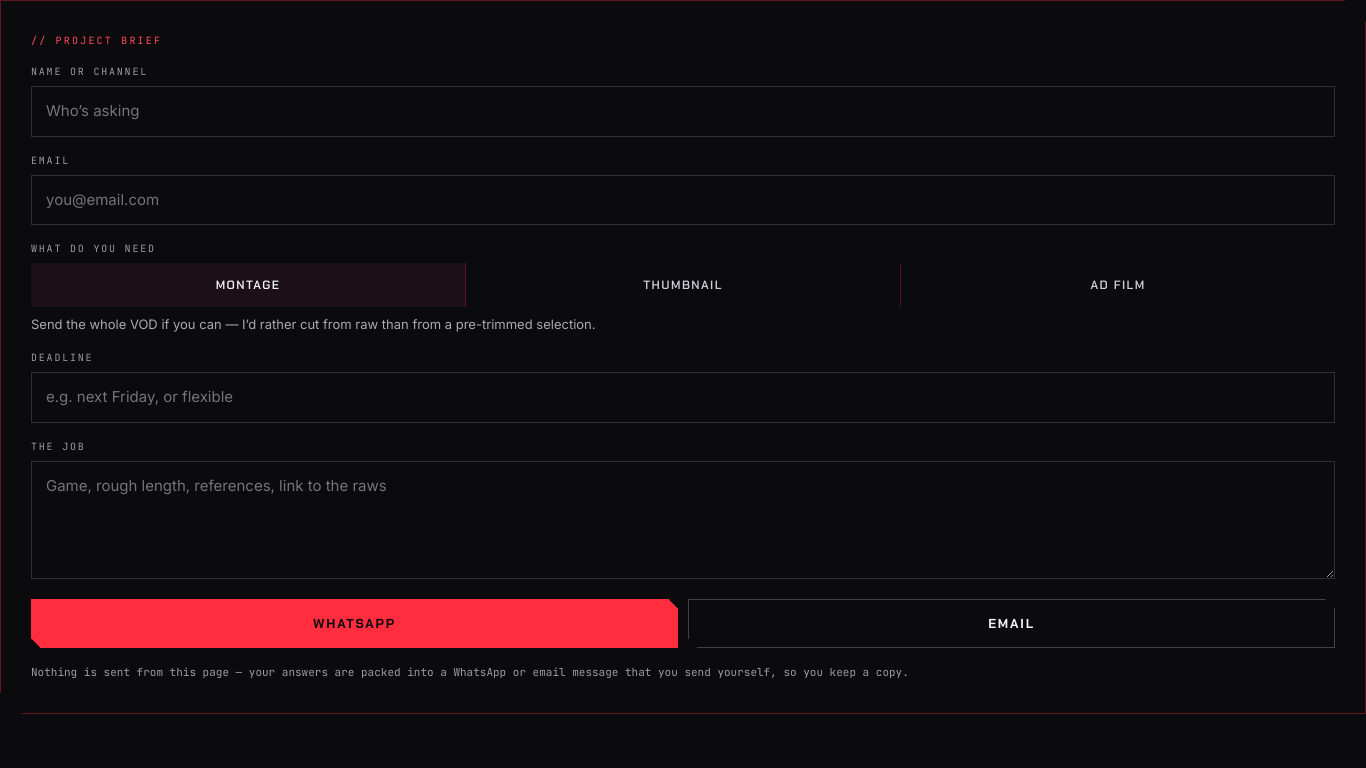
Scenario: BriefForm › confirms which channel it opened
Type "Rafi" into the field labelled "Name or channel" at coordinates (683, 111), box [31,86,1335,136]
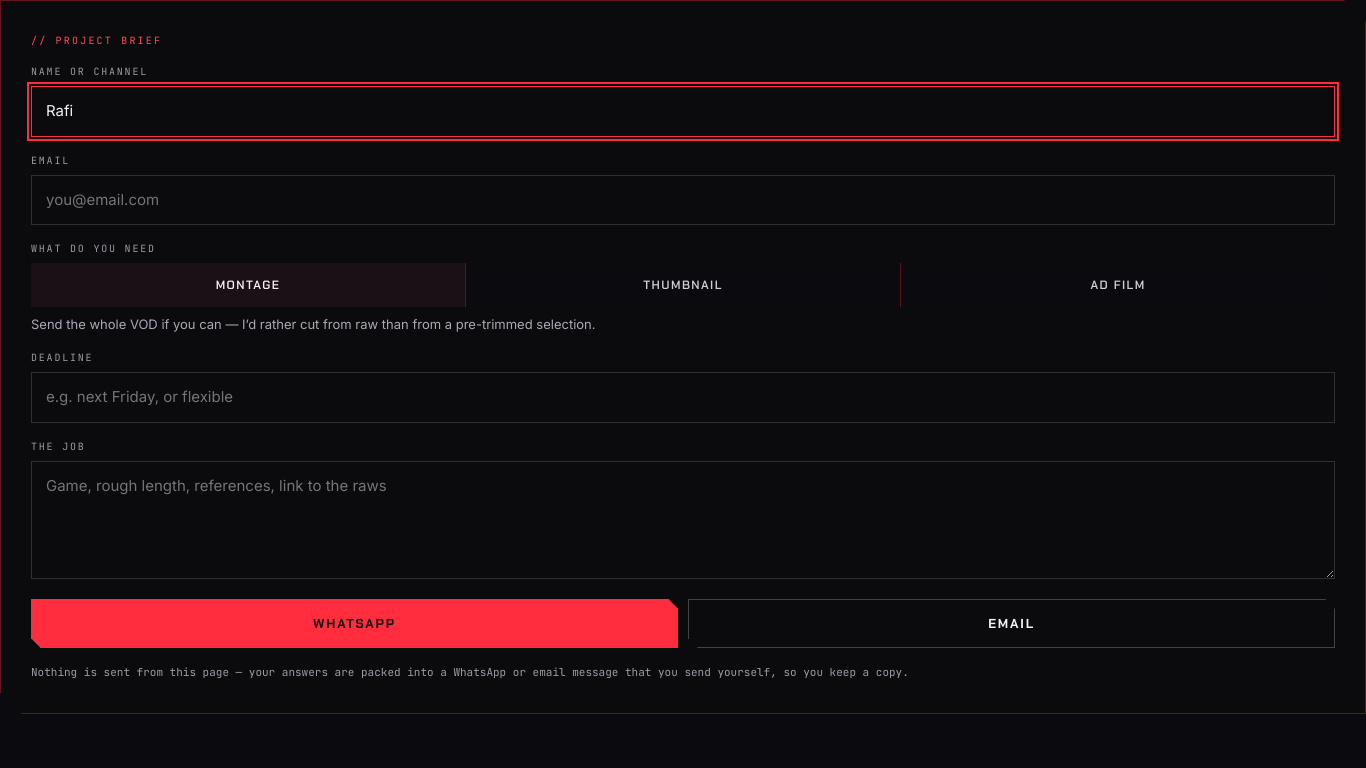
Type "rafi@example.com" into the field labelled "Email" at coordinates (683, 200), box [31,174,1335,225]
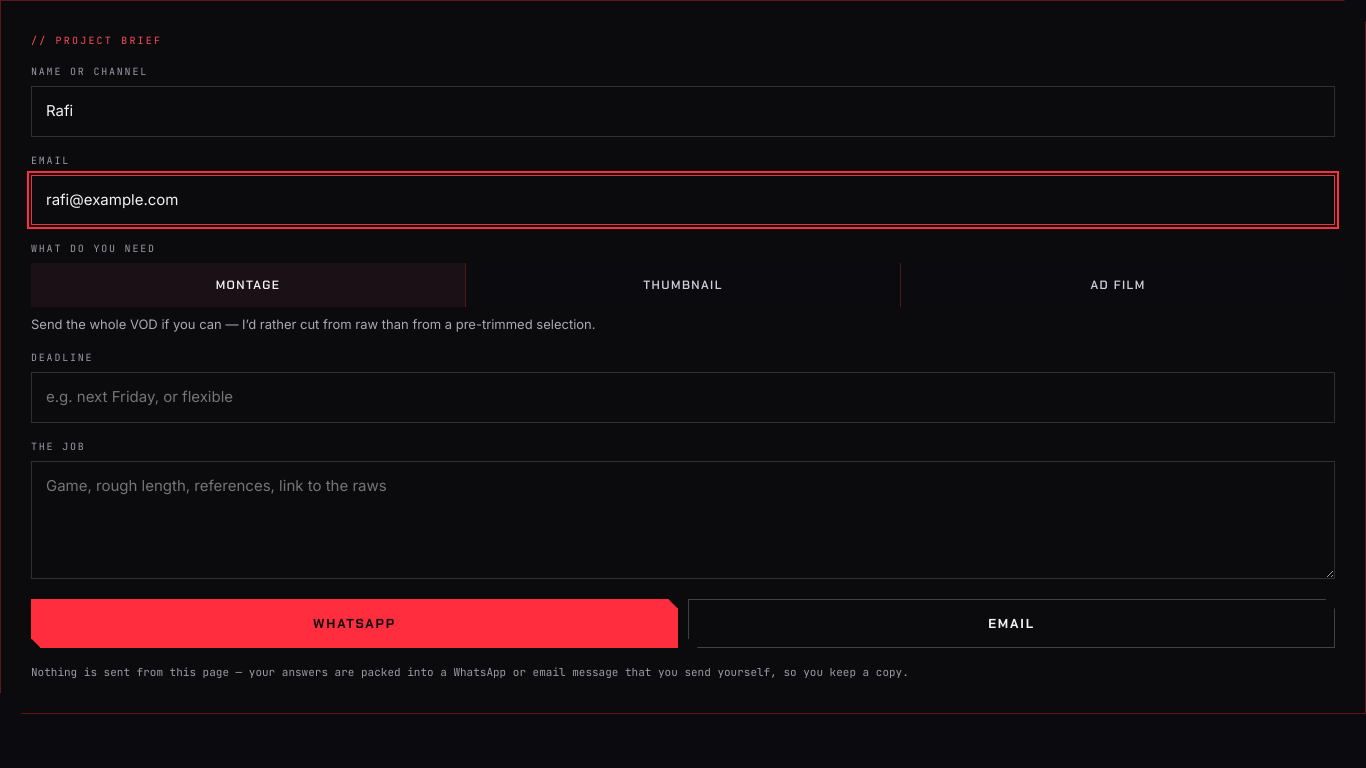
Type "PUBG Mobile montage, two minutes, raws on Drive." into the text box labelled "The job" at coordinates (683, 520), box [31,461,1335,579]
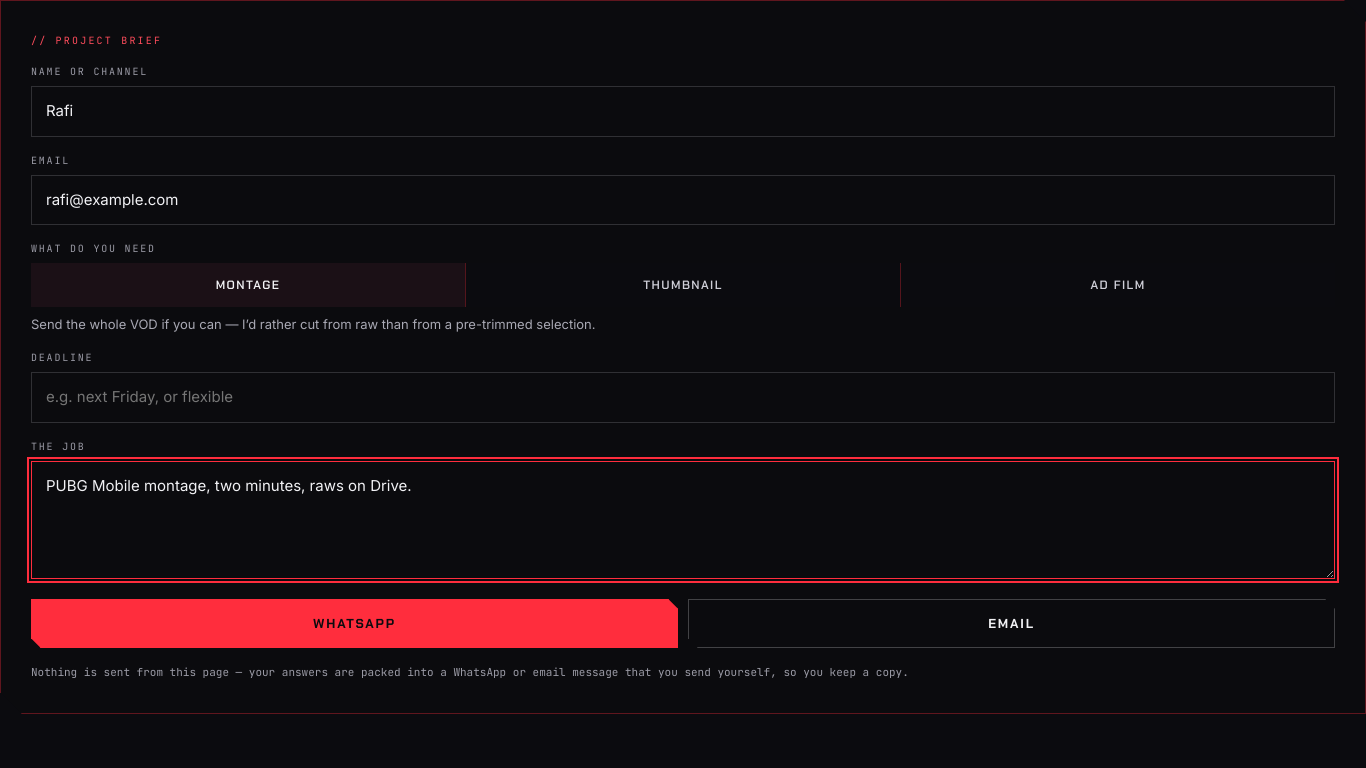
Click the button "WhatsApp" at coordinates (354, 623), box [31,599,678,648]
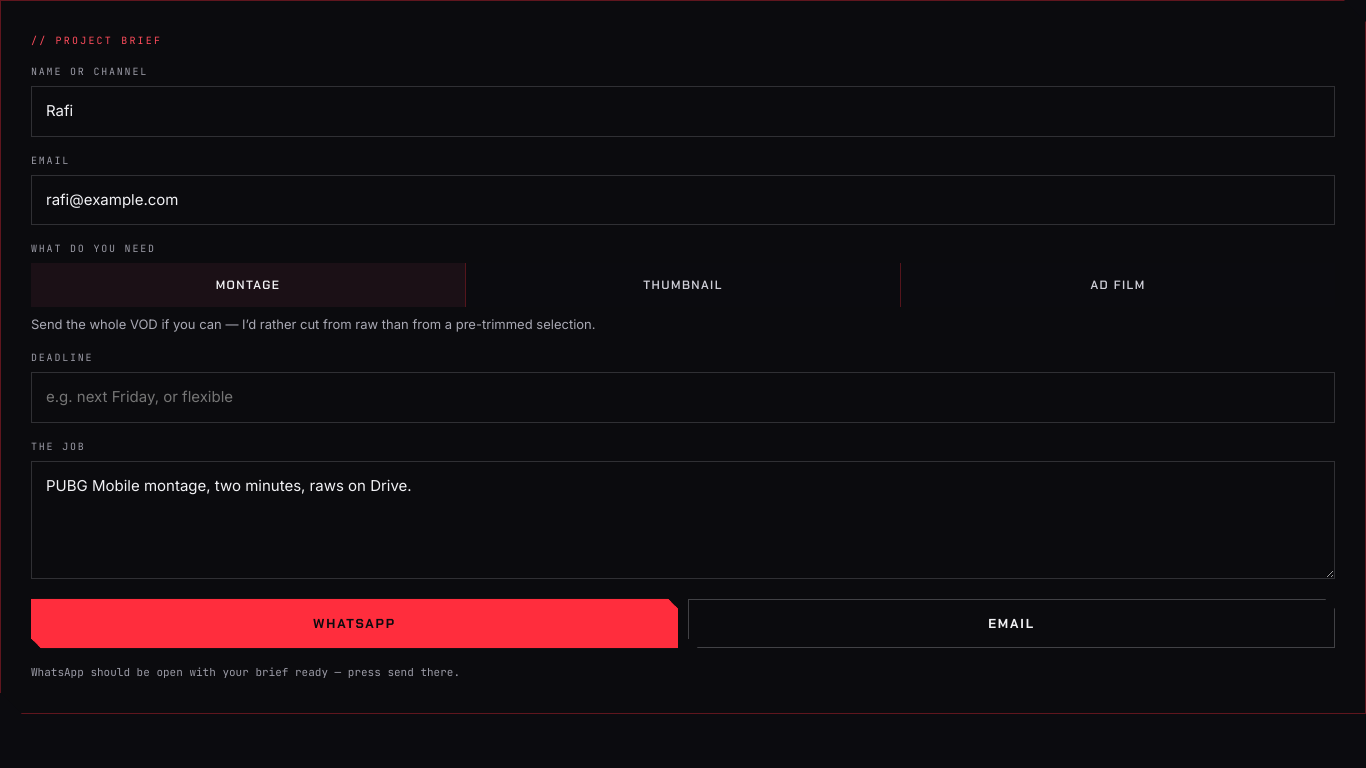
Expected: the message shows "WhatsApp should be open", [31,665,460,679]
